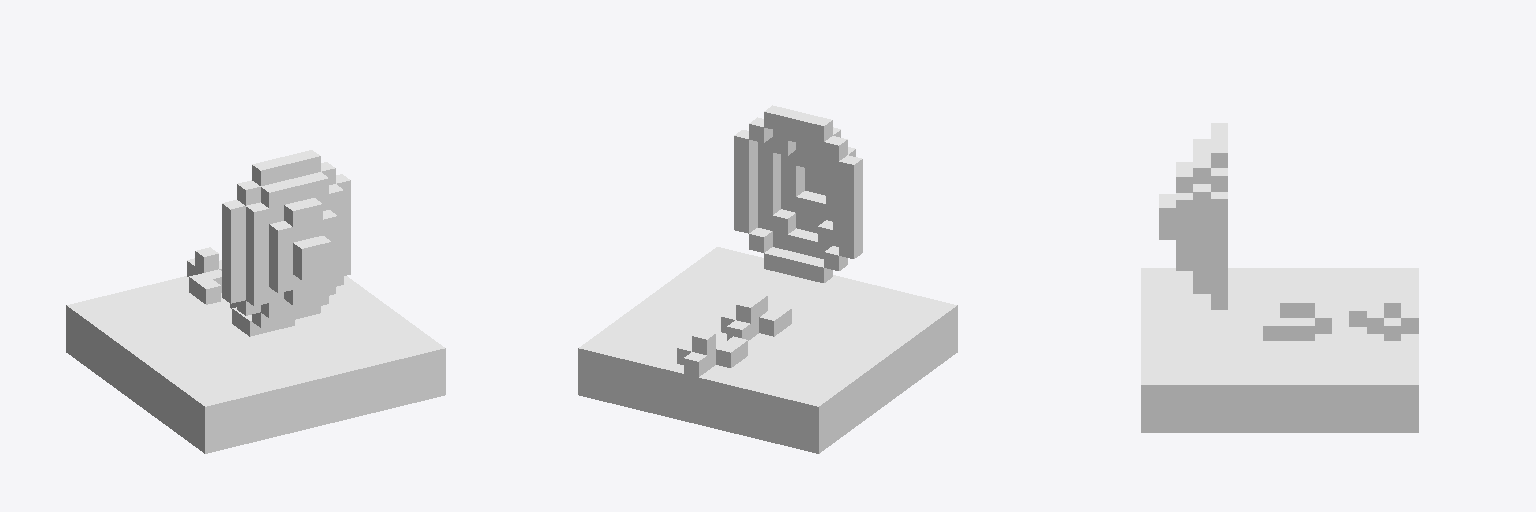
Rendered from portal.obj.
The picture shows the model from 3 angles: view 1: azimuth 30°, elevation 25°; view 2: azimuth 150°, elevation 25°; view 3: azimuth 270°, elevation 25°; orthographic projection.
Visible parts, largest first — view 1: Portal; view 2: Portal; view 3: Portal.
Boxes of the visible parts, <box> form: Portal: <box>66,150,445,453</box>; Portal: <box>578,105,957,453</box>; Portal: <box>1141,123,1418,432</box>.
Size of the model in its own units: 16 by 15 by 16.